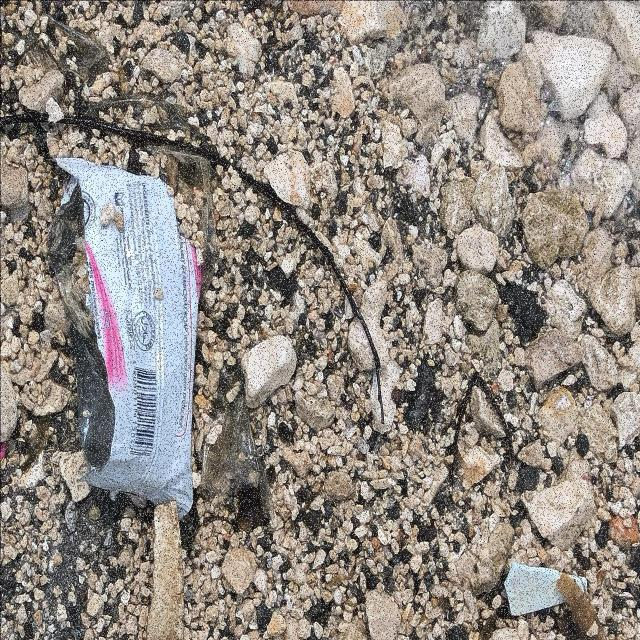plastic_waste: (54, 154, 206, 522)
